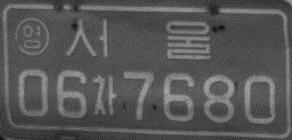0: (243, 74, 276, 124), (17, 68, 49, 118)
6: (163, 71, 194, 121), (56, 70, 87, 119)
7: (122, 69, 155, 120)
8: (203, 73, 235, 123)
서울_D: (64, 18, 212, 61)
영: (14, 17, 49, 56)
차: (91, 73, 116, 116)
